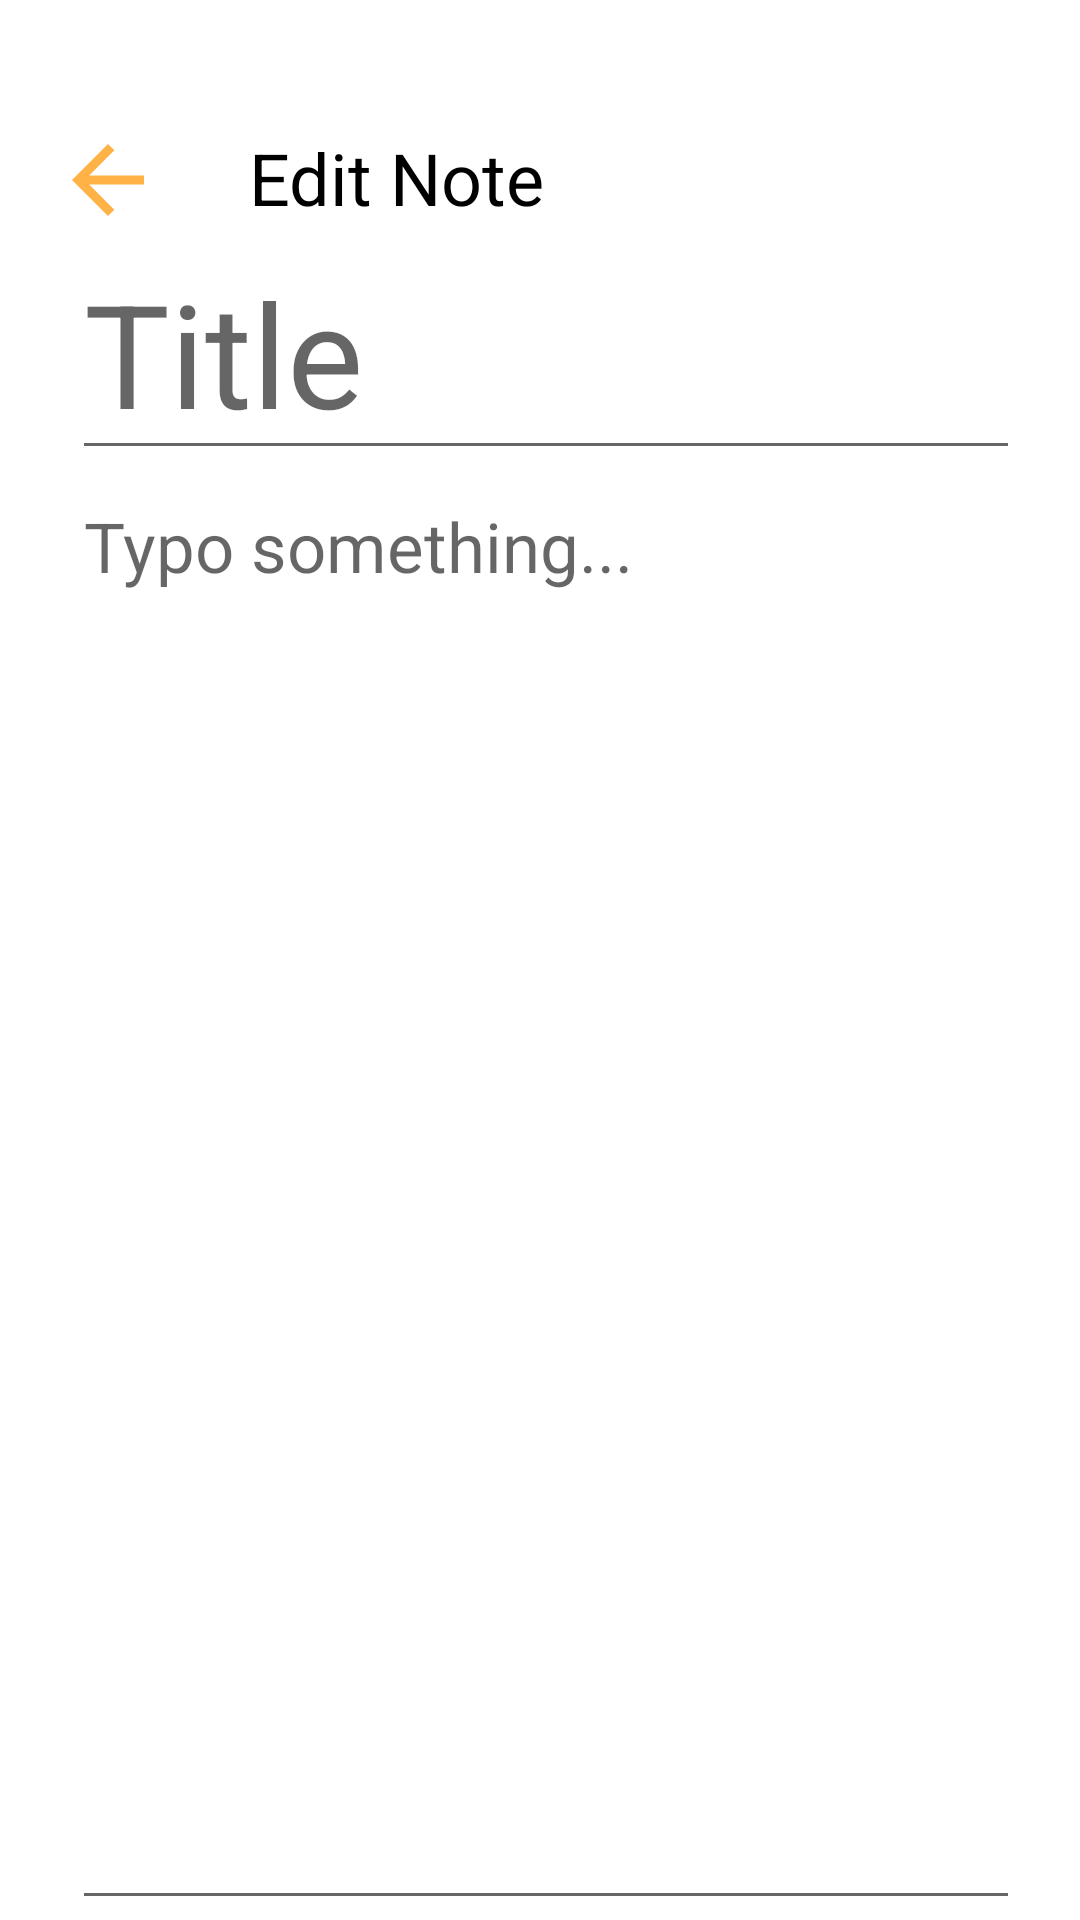

Screen size 1080x1920. Icon name, then its center in pixels as (x,y):
arrow back: (108,180)
